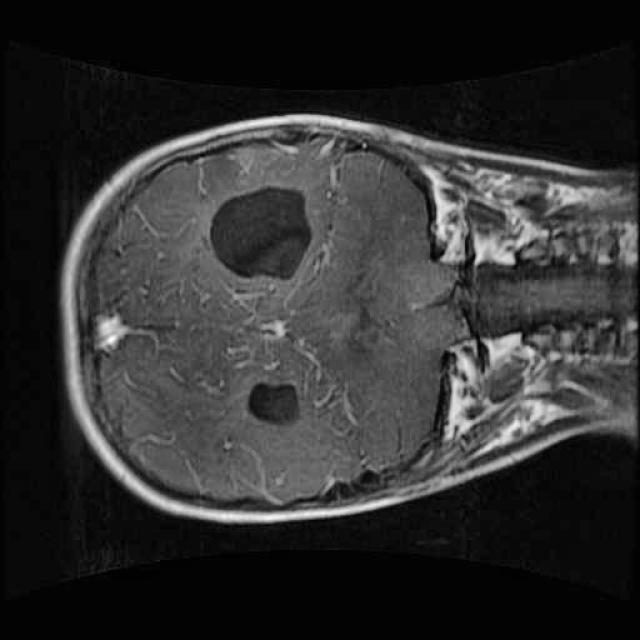Non-Tumor: (195, 168, 335, 299)
